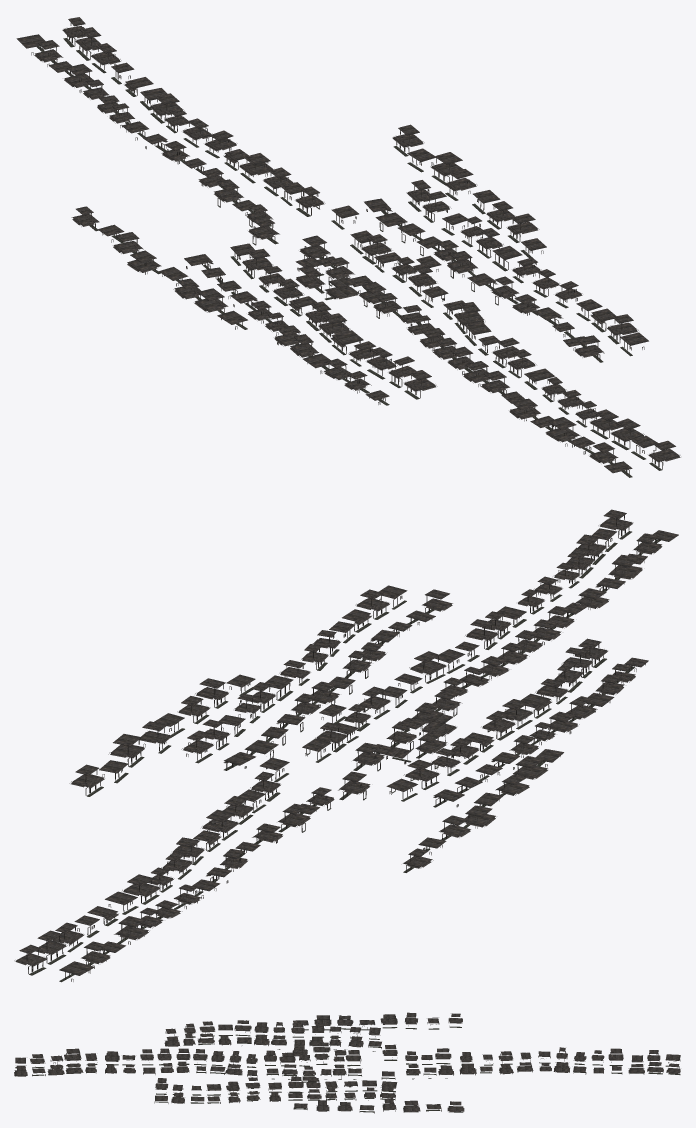
Rendered from canal_shadow.glb.
3 views of the same model, one above another, from view 1: azimuth 30°, elevation 25°; view 2: azimuth 150°, elevation 25°; view 3: azimuth 270°, elevation 25° (orthographic). The views are drawn at different scales.
Visible parts, largest first — view 1: canal_shadow0, canal_shadow1; view 2: canal_shadow0, canal_shadow1; view 3: canal_shadow0, canal_shadow1.
Boxes of the visible parts, box(x1,y1,x2,y2) form: canal_shadow0: box(16, 17, 680, 477); canal_shadow1: box(71, 124, 648, 362); canal_shadow0: box(14, 509, 678, 982); canal_shadow1: box(69, 585, 563, 872); canal_shadow0: box(14, 1020, 680, 1103); canal_shadow1: box(154, 1012, 464, 1113).
Size of the model in its own units: 117 by 8.16 by 347.
Materials: 1 (1 with a texture image).
